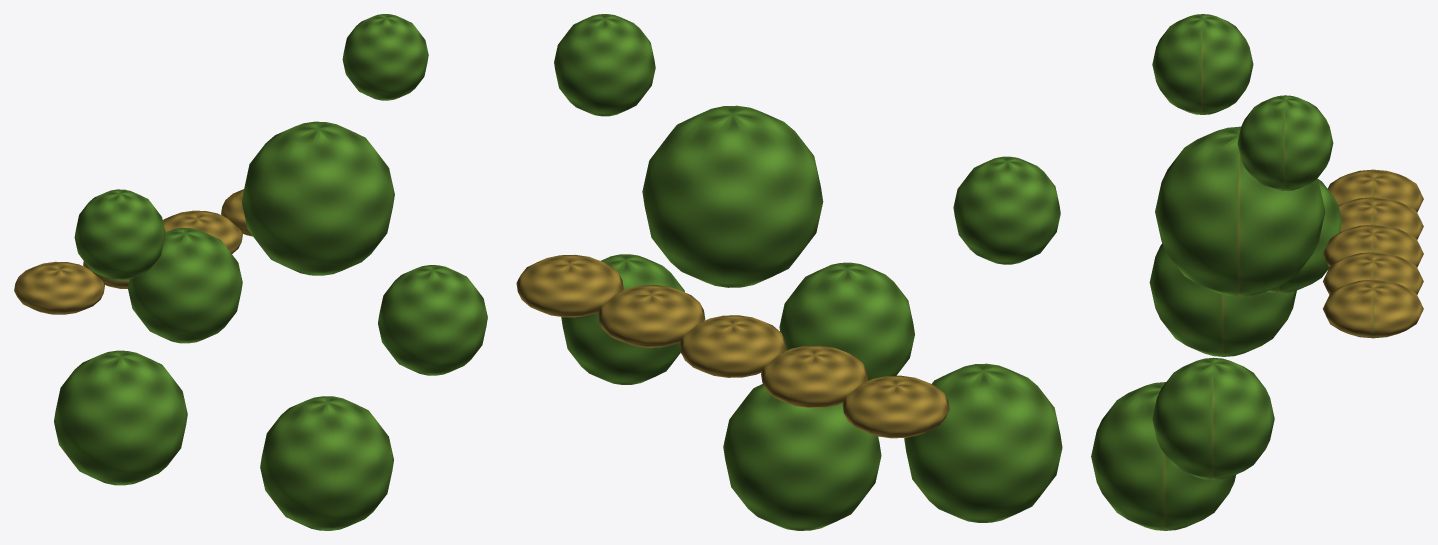
The model's file is phytoplankton.glb.
3 views of the same model, side by side, from view 1: azimuth 30°, elevation 25°; view 2: azimuth 150°, elevation 25°; view 3: azimuth 270°, elevation 25° (orthographic). The views are drawn at different scales.
Visible parts, largest first — view 1: Magnified phytoplankton; view 2: Magnified phytoplankton; view 3: Magnified phytoplankton.
Part boxes in pixels (<box>): Magnified phytoplankton: <box>14,14,487,530</box>; Magnified phytoplankton: <box>516,14,1062,530</box>; Magnified phytoplankton: <box>1091,14,1423,530</box>.
Size of the model in its own units: 1.98 by 2.01 by 1.25.
1 material, 1 textured.
